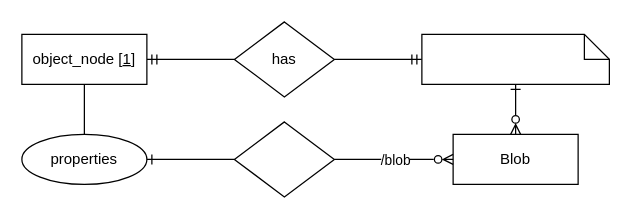
This 631x219 diagram has some shape labels left out. Here are the shapes that lost their labels. From the top down, the box of each, then its label:
(421, 33, 609, 84): /assets/6/b/6b86b2...
(233, 121, 334, 197): points to
